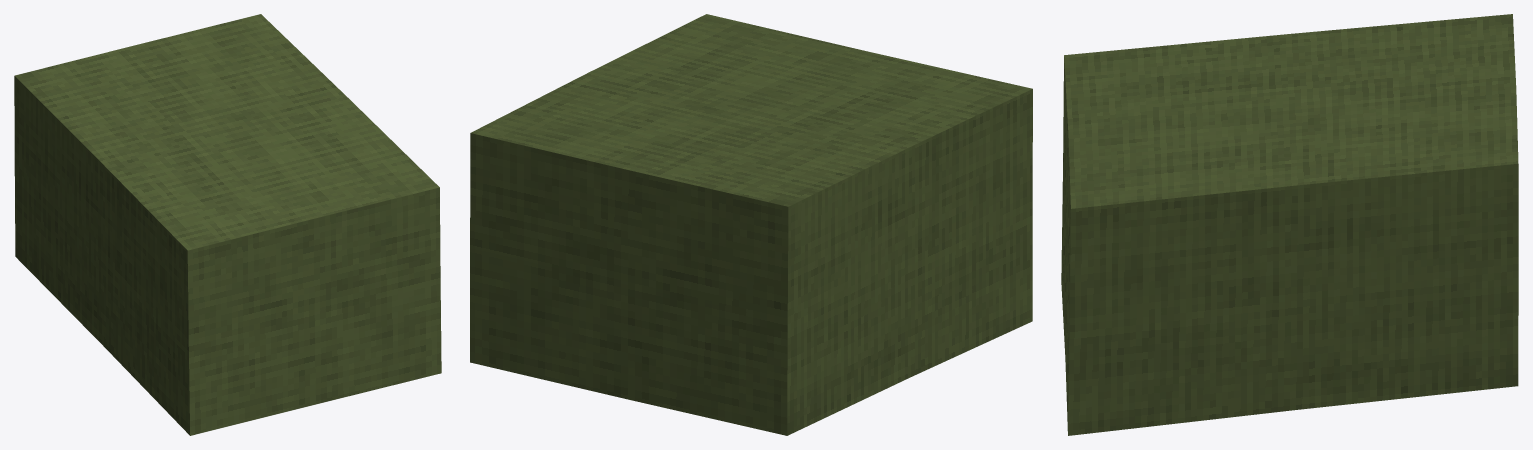
File: pack_satchel.glb
3 views of the same model, side by side, from view 1: azimuth 30°, elevation 25°; view 2: azimuth 150°, elevation 25°; view 3: azimuth 270°, elevation 25° (orthographic). The views are drawn at different scales.
Parts seen in each view (by area): view 1: pack_worn_satchel; view 2: pack_worn_satchel; view 3: pack_worn_satchel.
Part boxes in pixels (box(x1,y1,x2,y2)): pack_worn_satchel: box(14, 14, 441, 435); pack_worn_satchel: box(470, 14, 1032, 435); pack_worn_satchel: box(1061, 14, 1518, 435).
Size of the model in its own units: 0.21 by 0.1739 by 0.2619.
1 material, 1 textured.
